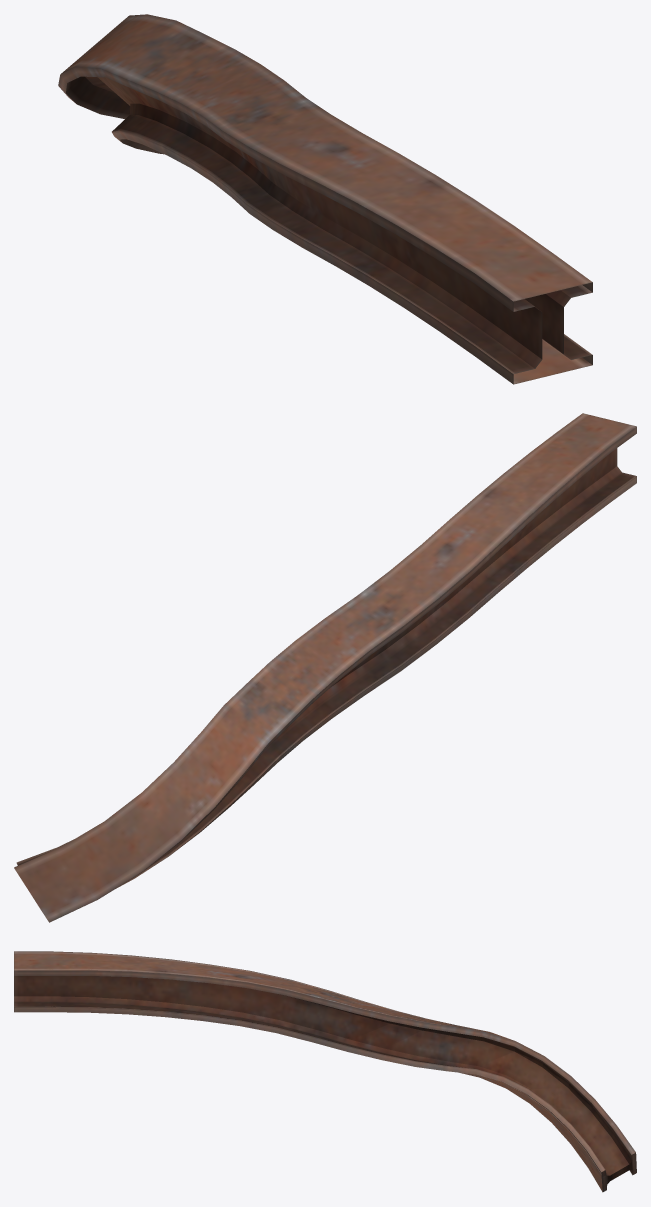
File: welder_girder_bent01.dae
3 renders of one model, top to bottom at view 1: azimuth 30°, elevation 25°; view 2: azimuth 150°, elevation 25°; view 3: azimuth 270°, elevation 25°, orthographic. The views are drawn at different scales.
Visible parts, largest first — view 1: welder_girder_bent01; view 2: welder_girder_bent01; view 3: welder_girder_bent01.
Part boxes in pixels (x1,y1,x2,y2): welder_girder_bent01: [58, 14, 592, 384]; welder_girder_bent01: [14, 413, 636, 922]; welder_girder_bent01: [14, 951, 636, 1192].
Bounding box in the file's own units: 1.01 × 1.06 × 3.4.
